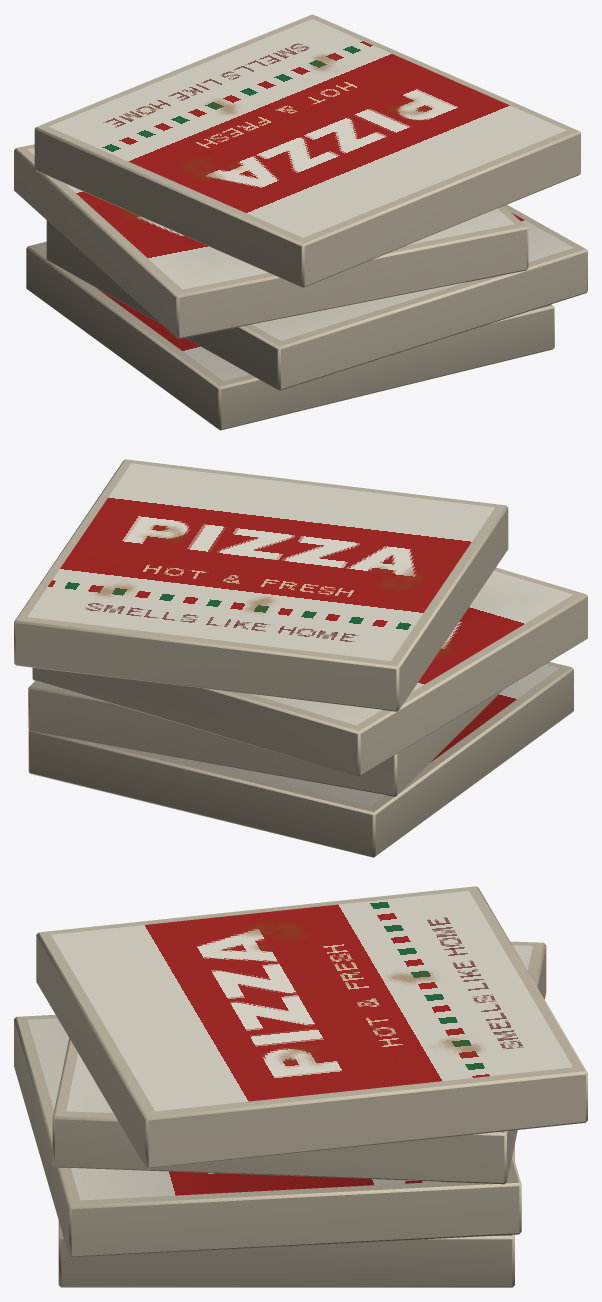
The model's file is pizza_stack.glb.
The picture shows the model from 3 angles, top to bottom: view 1: azimuth 30°, elevation 25°; view 2: azimuth 150°, elevation 25°; view 3: azimuth 270°, elevation 25°; orthographic projection. The views are drawn at different scales.
Parts seen in each view (by area): view 1: body, panels; view 2: body, panels; view 3: body, panels.
Boxes of the visible parts, <box> form: body: <box>14,14,587,430</box>; panels: <box>27,19,573,380</box>; body: <box>14,459,587,857</box>; panels: <box>27,463,573,806</box>; body: <box>14,886,587,1287</box>; panels: <box>28,891,572,1200</box>.
Size of what is drawn, in the model's own units: 0.4575 by 0.1806 by 0.4531.
2 materials, 1 textured.
